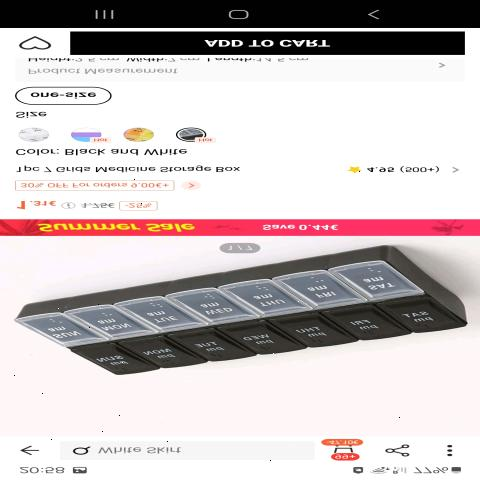PillBox: (13, 236, 474, 386)
